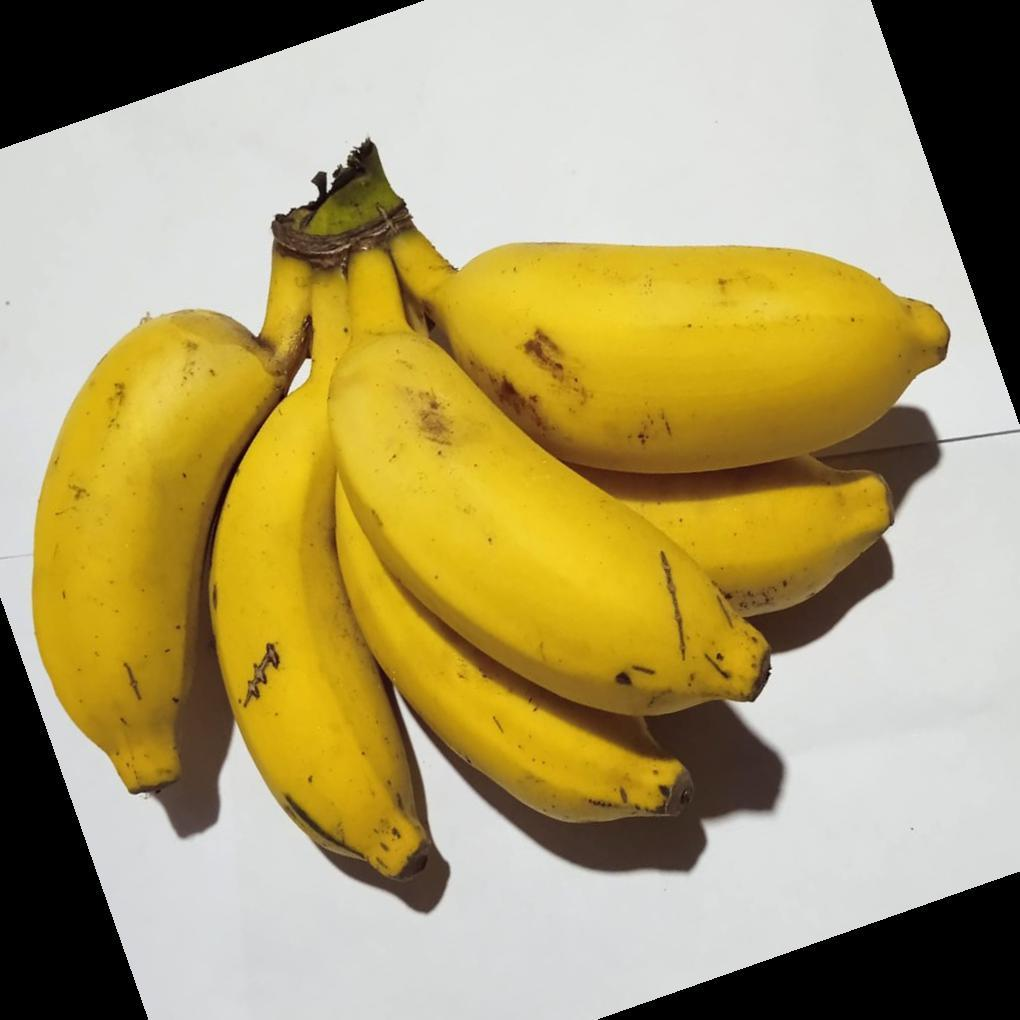Banana Ripe: (181, 153, 620, 964), (351, 104, 989, 523), (1, 283, 340, 939)
